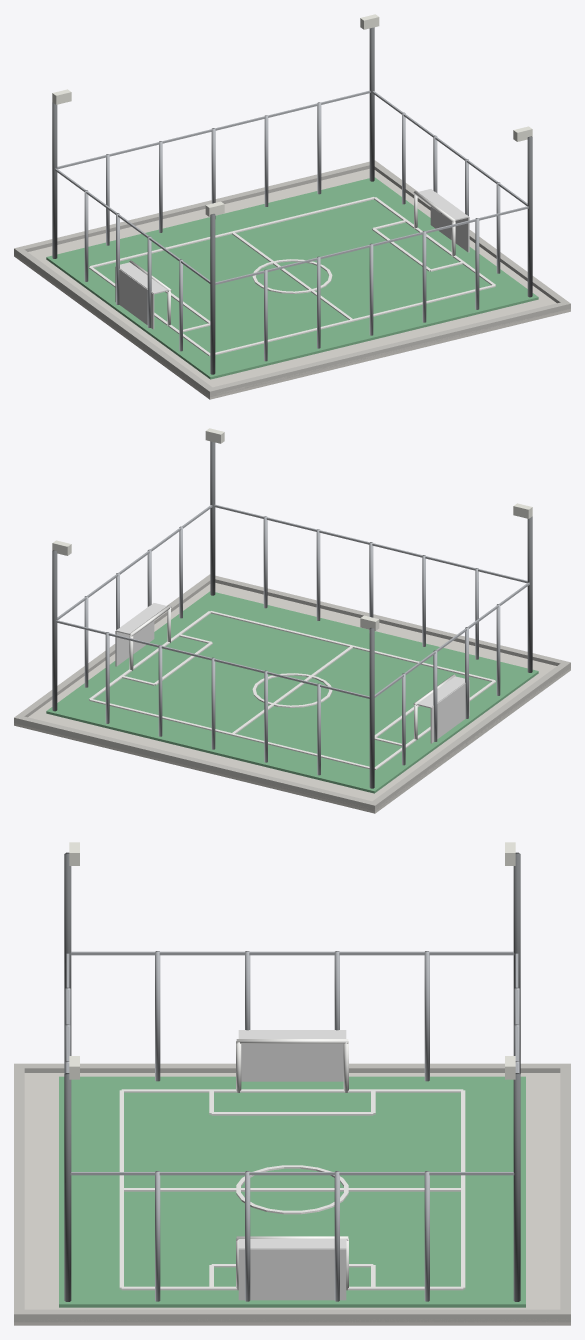
File: mapa.cancha_futbol5.fbx
3 views of the same model, one above another, from view 1: azimuth 30°, elevation 25°; view 2: azimuth 150°, elevation 25°; view 3: azimuth 270°, elevation 25° (orthographic). The views are drawn at different scales.
Visible parts, largest first — view 1: Cancha, Vereda, Solera.001, Solera.003, Solera, Solera.002, Red.001, Barra.002, Barra.003, Torre del foco.003, Torre del foco.001, Torre del foco.002 (+9 smaller); view 2: Cancha, Vereda, Solera, Solera.001, Solera.003, Solera.002, Red.001, Barra.003, Barra.002, Torre del foco.002, Torre del foco, Torre del foco.003 (+9 smaller); view 3: Cancha, Vereda, Solera.002, Red, Solera.003, Red.001, Solera.001, Solera, Barra.001, Torre del foco, Torre del foco.001, Barra (+16 smaller).
Boxes of the visible parts, bbox=[...] form: Cancha: bbox=[46, 177, 538, 379]; Vereda: bbox=[14, 169, 570, 399]; Solera.001: bbox=[206, 302, 570, 397]; Solera.003: bbox=[14, 248, 216, 396]; Solera: bbox=[14, 160, 378, 255]; Solera.002: bbox=[369, 160, 570, 304]; Red.001: bbox=[115, 266, 154, 329]; Barra.002: bbox=[57, 90, 370, 169]; Barra.003: bbox=[215, 206, 528, 284]; Torre del foco.003: bbox=[210, 214, 215, 374]; Torre del foco.001: bbox=[527, 136, 532, 297]; Torre del foco.002: bbox=[52, 102, 57, 258]; Cancha: bbox=[46, 591, 538, 793]; Vereda: bbox=[14, 583, 570, 813]; Solera: bbox=[14, 716, 378, 811]; Solera.001: bbox=[206, 574, 570, 667]; Solera.003: bbox=[368, 662, 570, 810]; Solera.002: bbox=[14, 576, 215, 724]; Red.001: bbox=[430, 680, 469, 743]; Barra.003: bbox=[214, 504, 527, 583]; Barra.002: bbox=[56, 620, 369, 698]; Torre del foco.002: bbox=[369, 628, 374, 788]; Torre del foco: bbox=[52, 550, 57, 711]; Torre del foco.003: bbox=[527, 516, 532, 672]; Cancha: bbox=[59, 1076, 525, 1307]; Vereda: bbox=[14, 1073, 570, 1325]; Solera.002: bbox=[14, 1309, 570, 1322]; Red: bbox=[238, 1249, 346, 1300]; Solera.003: bbox=[14, 1063, 570, 1072]; Red.001: bbox=[241, 1044, 343, 1081]; Solera.001: bbox=[14, 1063, 24, 1322]; Solera: bbox=[560, 1063, 570, 1322]; Barra.001: bbox=[70, 951, 514, 955]; Torre del foco: bbox=[513, 1073, 520, 1301]; Torre del foco.001: bbox=[64, 1073, 71, 1301]; Barra: bbox=[70, 1172, 514, 1175].
Size of the model in its own units: 3.3 by 1.51 by 3.1.
